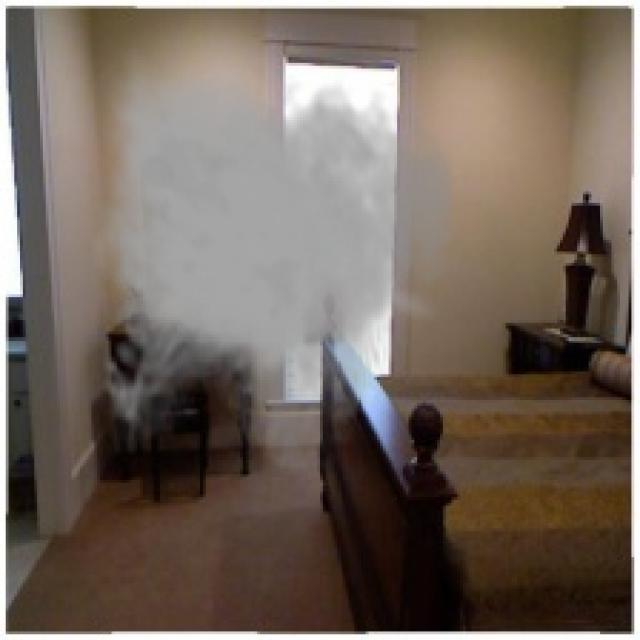Smoke: (91, 48, 460, 474)
